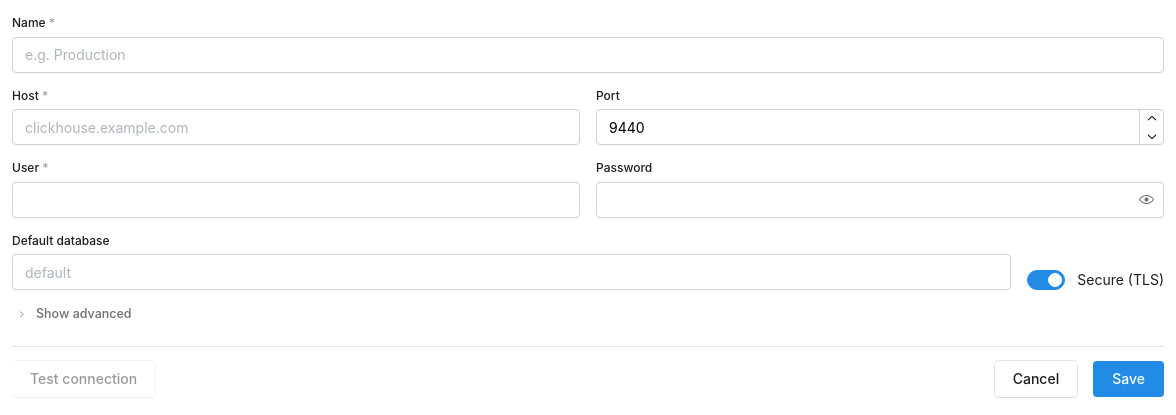
Test: ConnectionForm › strips the scheme and port from a pasted URL
Type "https://ch.example.com:8443/play" into the field labelled "Host *" at (296, 127), box x1=12 y1=109 x2=580 y2=145
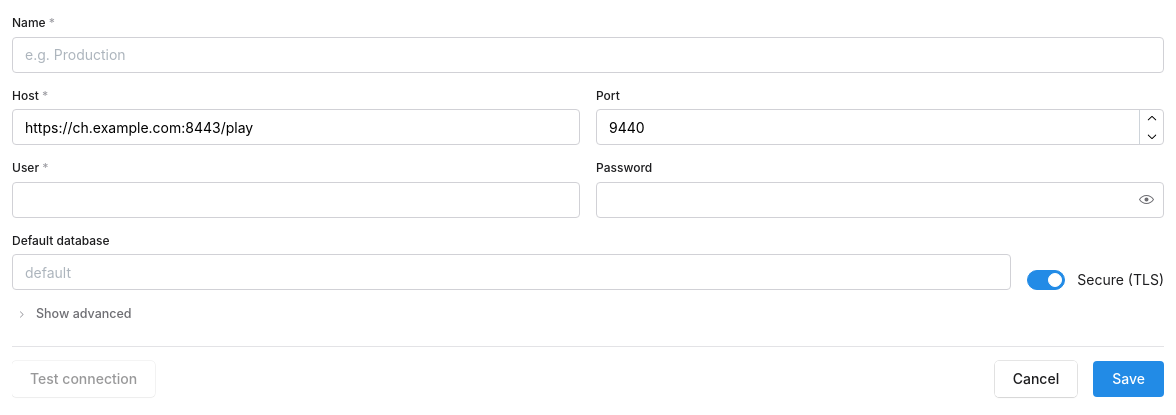
Leave the field labelled "Host *", box x1=12 y1=109 x2=580 y2=145
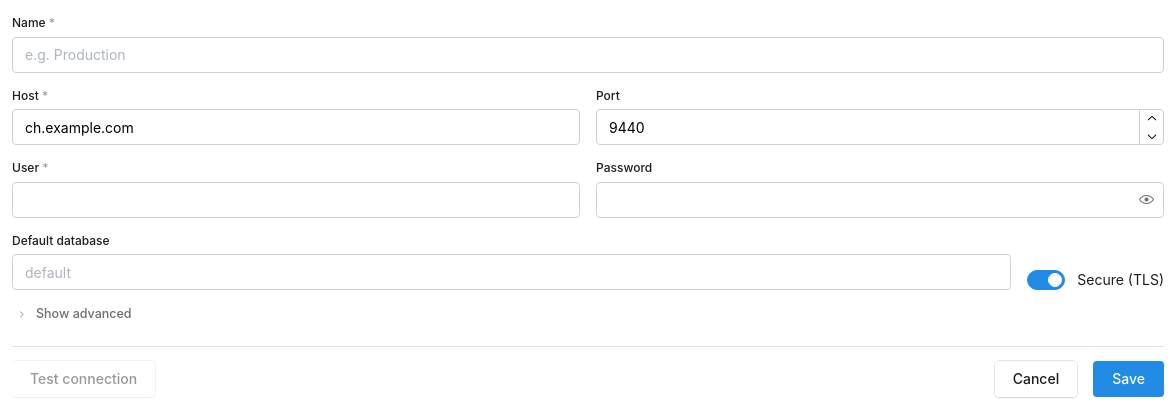
Expected: the field labelled "Host *" holds "ch.example.com", x1=12 y1=109 x2=580 y2=145
